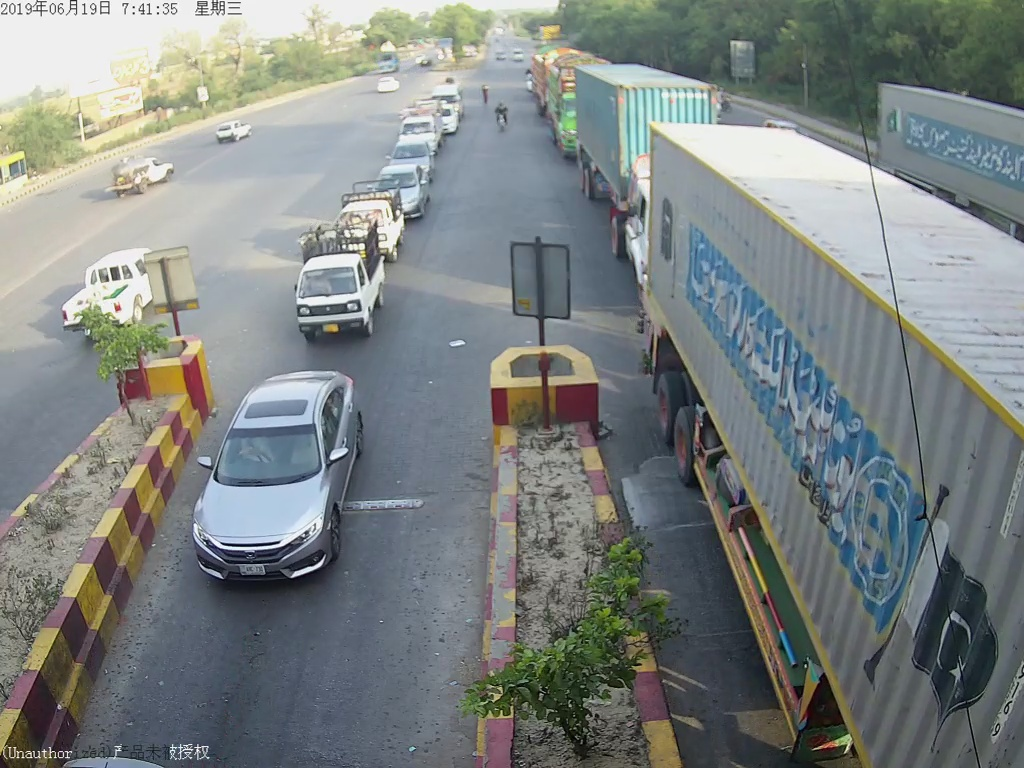Cat-1: (204, 381, 372, 585), (292, 224, 389, 344)
